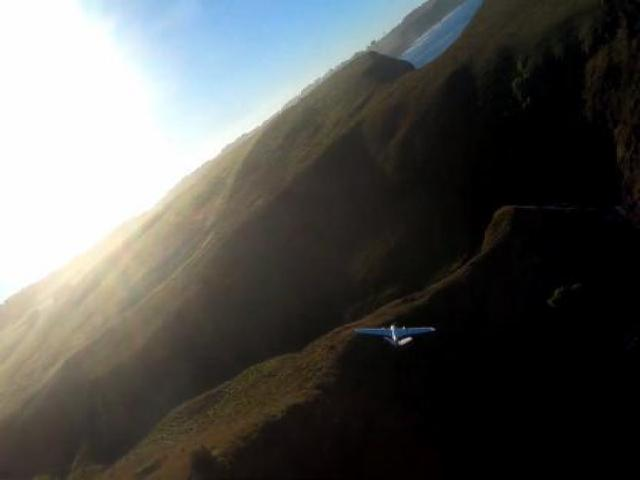uav: (354, 315, 435, 348)
